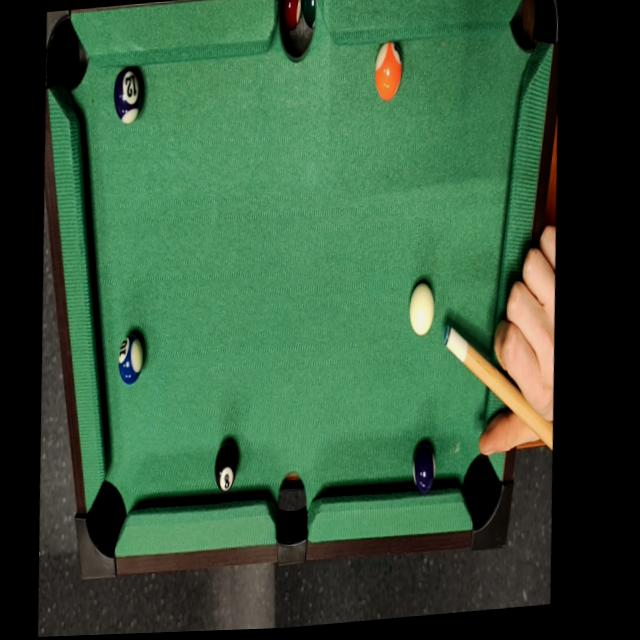cue ball: (402, 277, 438, 344)
other: (107, 60, 148, 132), (370, 33, 409, 103), (114, 325, 149, 387), (407, 440, 442, 498), (212, 440, 242, 492)
